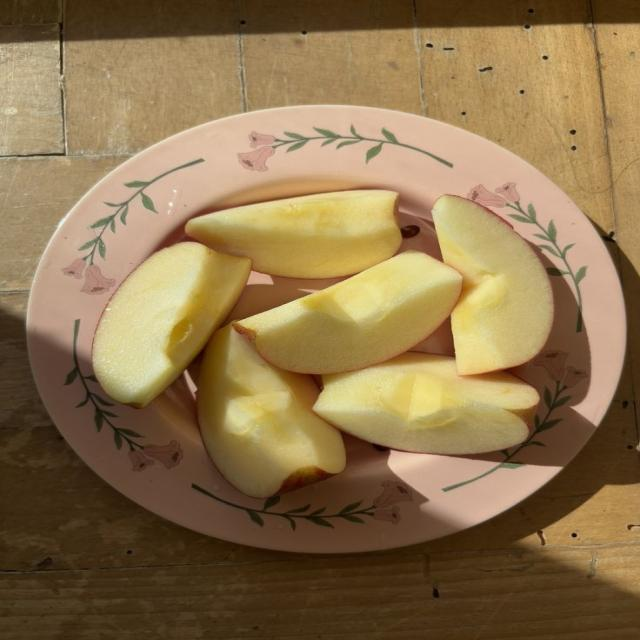apple: (234, 250, 461, 373), (93, 243, 250, 407), (197, 326, 346, 497), (314, 353, 539, 454), (433, 196, 553, 375), (186, 190, 401, 278)
